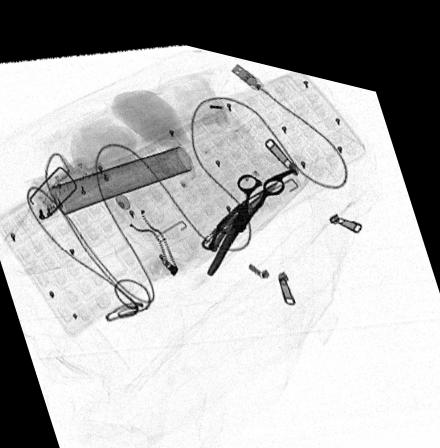Knife: (200, 168, 279, 242)
Scissors: (207, 153, 297, 265)
